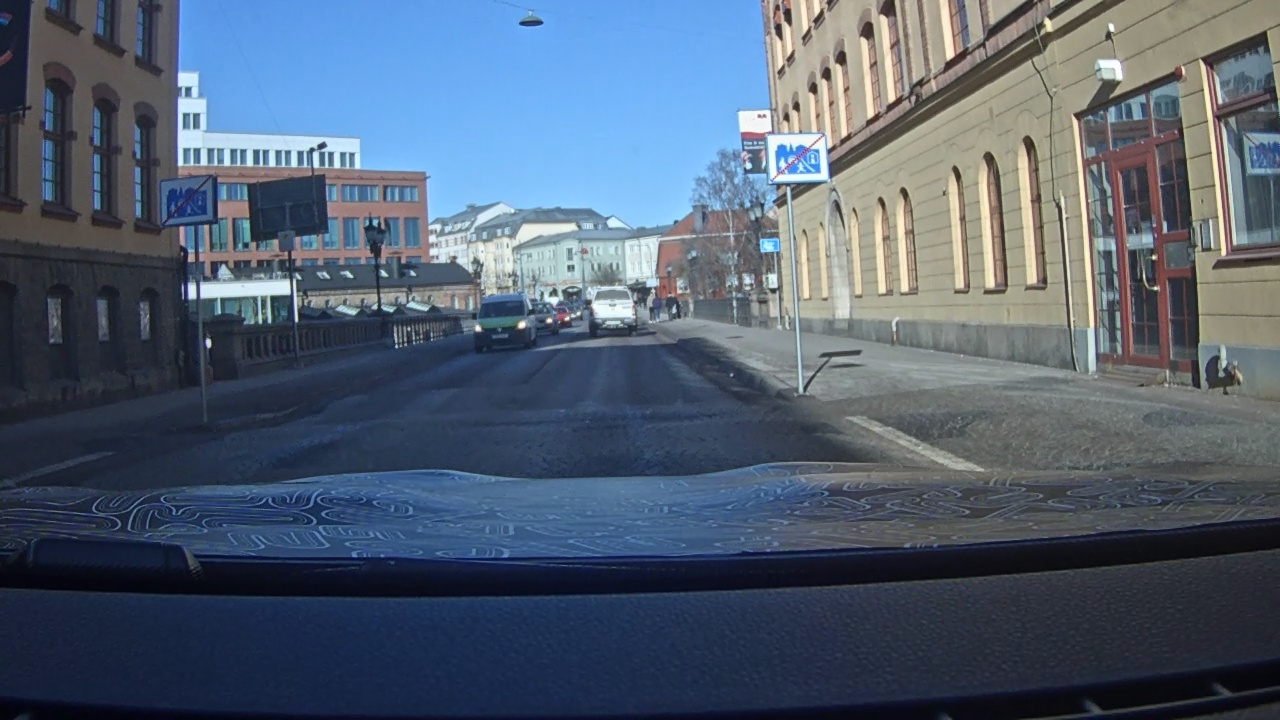End_Of_Playground_Residential_Area: (768, 133, 829, 183)
